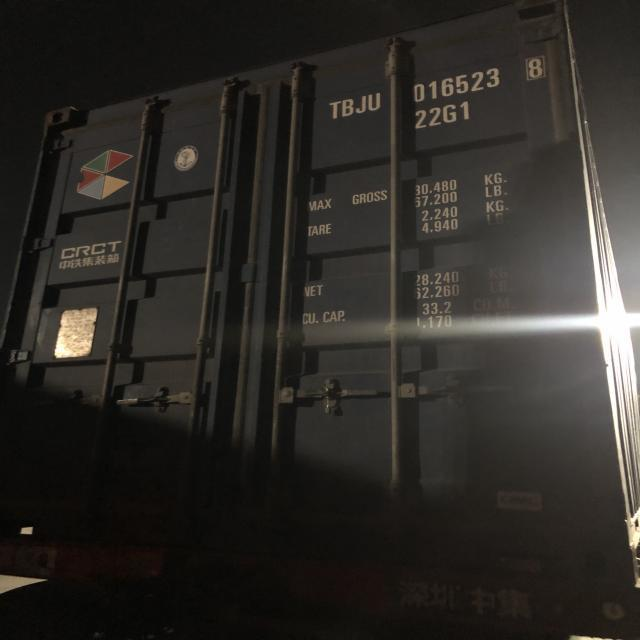ISO: (412, 102, 472, 128)
container_number: (322, 56, 546, 122)
